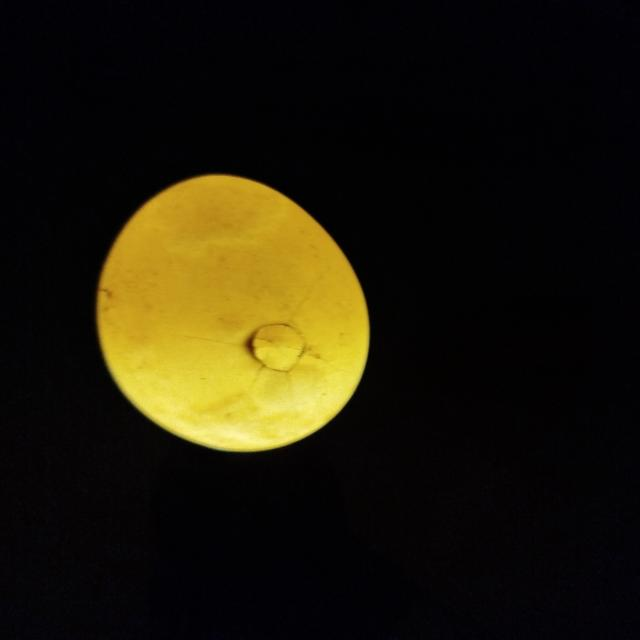Camara de Ar: (133, 174, 289, 248)
Rachadura: (191, 281, 343, 383)
